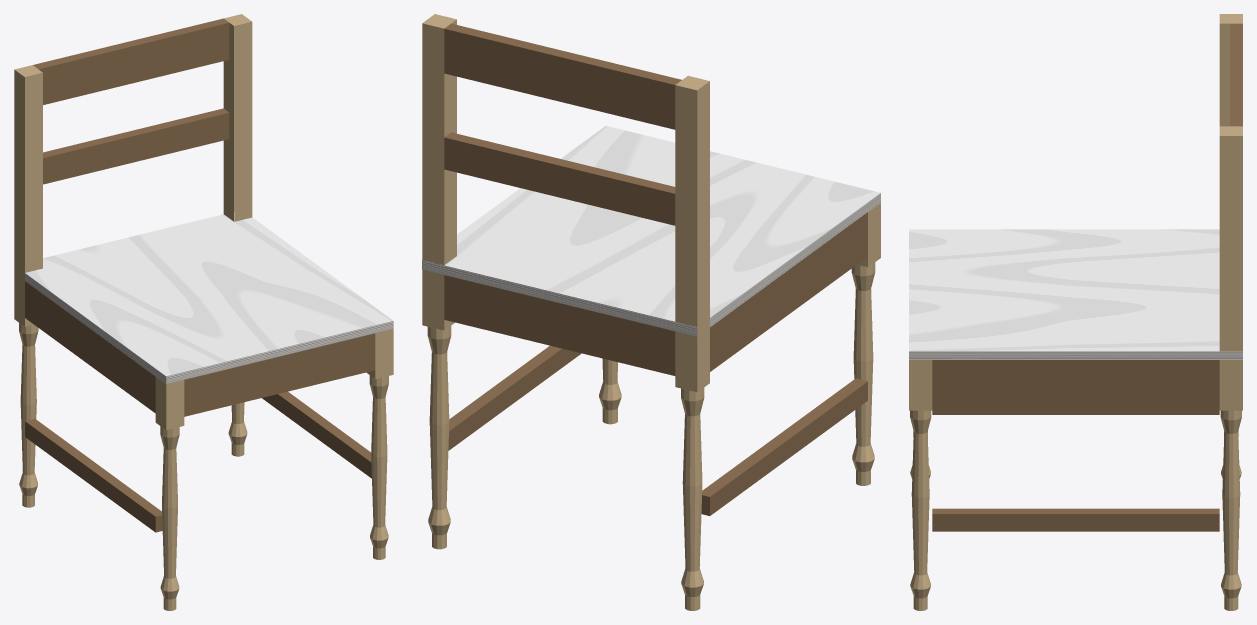
File: BIB-DCH-std.glb
3 renders of one model, left to right at view 1: azimuth 30°, elevation 25°; view 2: azimuth 150°, elevation 25°; view 3: azimuth 270°, elevation 25°, orthographic. The views are drawn at different scales.
Visible parts, largest first — view 1: seat:sheet:eyJtIjoicGx5Iiwic2lkZSI6ImZhY2UiLCJzZWVkIjo2LCJ2Z, leg-bl:pbr, back-top:pbr, rail-f:pbr, leg-br:pbr, back-mid:pbr, rail-l:pbr, leg-fl:pbr, leg-fr:pbr, stretcher-l:pbr, stretcher-r:pbr, seat:sheet:eyJtIjoicGx5Iiwic2lkZSI6ImVkZ2UtZW5kIiwic2VlZCI6N (+1 smaller); view 2: seat:sheet:eyJtIjoicGx5Iiwic2lkZSI6ImZhY2UiLCJzZWVkIjo2LCJ2Z, leg-bl:pbr, leg-br:pbr, back-top:pbr, rail-b:pbr, back-mid:pbr, rail-l:pbr, stretcher-l:pbr, leg-fl:pbr, stretcher-r:pbr, seat:sheet:eyJtIjoicGx5Iiwic2lkZSI6ImVkZ2UtZW5kIiwic2VlZCI6N, seat:sheet:eyJtIjoicGx5Iiwic2lkZSI6ImVkZ2UtbG9uZyIsInNlZWQiO (+1 smaller); view 3: seat:sheet:eyJtIjoicGx5Iiwic2lkZSI6ImZhY2UiLCJzZWVkIjo2LCJ2Z, rail-r:pbr, leg-br:pbr, stretcher-r:pbr, leg-fr:pbr, stretcher-l:pbr, seat:sheet:eyJtIjoicGx5Iiwic2lkZSI6ImVkZ2UtbG9uZyIsInNlZWQiO, leg-bl:pbr, back-top:pbr.
Boxes of the visible parts, x1,y1,x2,y2 form: seat:sheet:eyJtIjoicGx5Iiwic2lkZSI6ImZhY2UiLCJzZWVkIjo2LCJ2Z: [25, 212, 393, 376]; leg-bl:pbr: [14, 65, 42, 507]; back-top:pbr: [33, 18, 229, 104]; rail-f:pbr: [184, 333, 375, 416]; leg-br:pbr: [223, 14, 252, 456]; back-mid:pbr: [43, 108, 229, 184]; rail-l:pbr: [25, 281, 155, 413]; leg-fl:pbr: [155, 377, 184, 610]; leg-fr:pbr: [366, 329, 393, 559]; stretcher-l:pbr: [25, 418, 162, 532]; stretcher-r:pbr: [262, 391, 371, 478]; seat:sheet:eyJtIjoicGx5Iiwic2lkZSI6ImVkZ2UtZW5kIiwic2VlZCI6N: [166, 321, 393, 383]; seat:sheet:eyJtIjoicGx5Iiwic2lkZSI6ImZhY2UiLCJzZWVkIjo2LCJ2Z: [444, 126, 880, 321]; leg-bl:pbr: [675, 76, 709, 610]; leg-br:pbr: [422, 14, 456, 549]; back-top:pbr: [444, 23, 681, 129]; rail-b:pbr: [444, 275, 675, 375]; back-mid:pbr: [444, 132, 675, 225]; rail-l:pbr: [710, 212, 867, 371]; stretcher-l:pbr: [701, 378, 867, 515]; leg-fl:pbr: [851, 202, 880, 485]; stretcher-r:pbr: [448, 345, 581, 450]; seat:sheet:eyJtIjoicGx5Iiwic2lkZSI6ImVkZ2UtZW5kIiwic2VlZCI6N: [422, 260, 697, 336]; seat:sheet:eyJtIjoicGx5Iiwic2lkZSI6ImVkZ2UtbG9uZyIsInNlZWQiO: [710, 193, 880, 326]; seat:sheet:eyJtIjoicGx5Iiwic2lkZSI6ImZhY2UiLCJzZWVkIjo2LCJ2Z: [909, 229, 1219, 351]; rail-r:pbr: [932, 360, 1219, 400]; leg-br:pbr: [1219, 126, 1242, 610]; stretcher-r:pbr: [932, 508, 1219, 531]; leg-fr:pbr: [909, 360, 932, 610]; stretcher-l:pbr: [932, 400, 1219, 414]; seat:sheet:eyJtIjoicGx5Iiwic2lkZSI6ImVkZ2UtbG9uZyIsInNlZWQiO: [909, 351, 1242, 359]; leg-bl:pbr: [1219, 14, 1242, 478]; back-top:pbr: [1230, 23, 1242, 126].
Size of the model in its own units: 0.4501 by 0.82 by 0.52.
15 materials, 3 textured.
